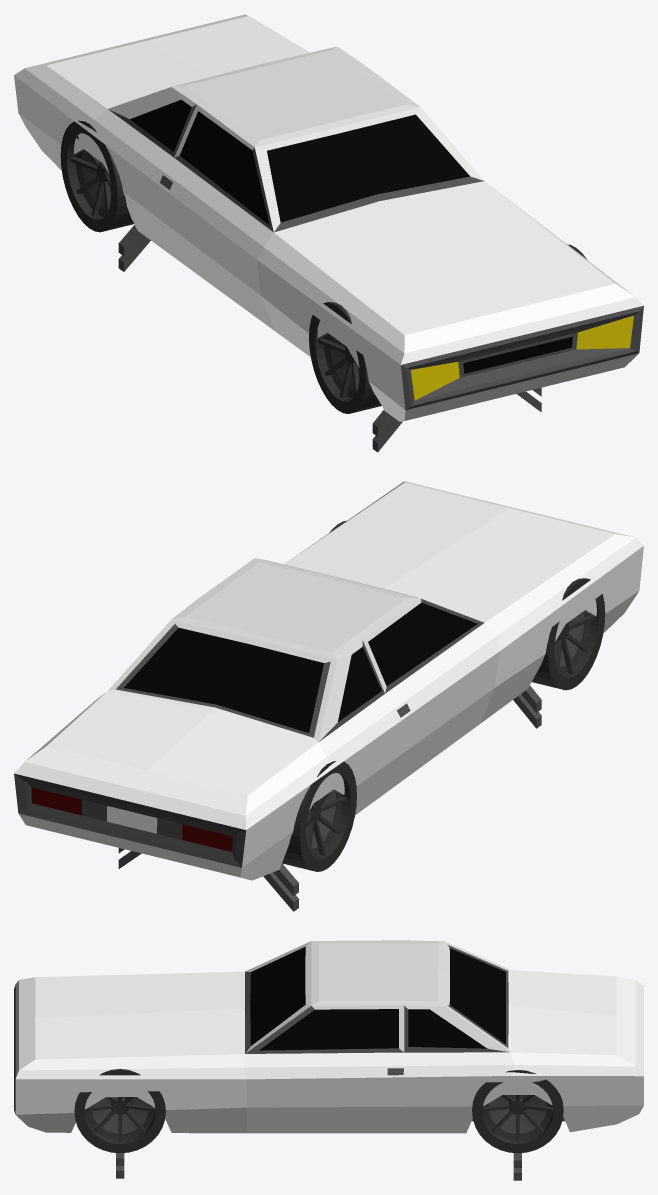
Rendered from car.glb.
3 views of the same model, one above another, from view 1: azimuth 30°, elevation 25°; view 2: azimuth 150°, elevation 25°; view 3: azimuth 270°, elevation 25° (orthographic). The views are drawn at different scales.
Visible parts, largest first — view 1: Body, WheelBR, WheelFR, SuspensionBR, SuspensionFR; view 2: Body, WheelBR, WheelFR, SuspensionBR, SuspensionFR; view 3: Body, WheelBL, WheelFL.
Part boxes in pixels (<box>): Body: <box>14,14,643,421</box>; WheelBR: <box>60,120,133,232</box>; WheelFR: <box>309,302,381,413</box>; SuspensionBR: <box>118,225,150,271</box>; SuspensionFR: <box>372,410,402,452</box>; Body: <box>14,481,643,880</box>; WheelBR: <box>282,761,356,871</box>; WheelFR: <box>532,578,605,690</box>; SuspensionBR: <box>263,863,298,911</box>; SuspensionFR: <box>513,685,541,728</box>; Body: <box>14,940,643,1133</box>; WheelBL: <box>472,1070,563,1153</box>; WheelFL: <box>74,1069,165,1153</box>.
Size of what is drawn, in the model's own units: 1.63 by 1.39 by 4.55.
